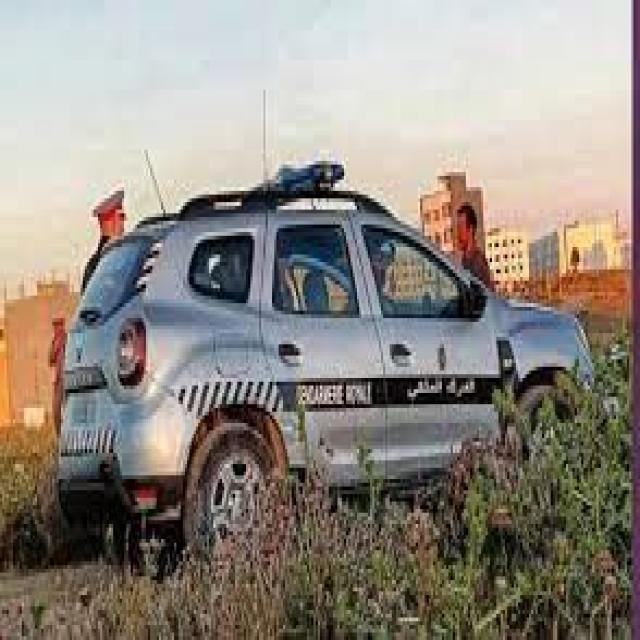gendarme car: (52, 157, 602, 574)
